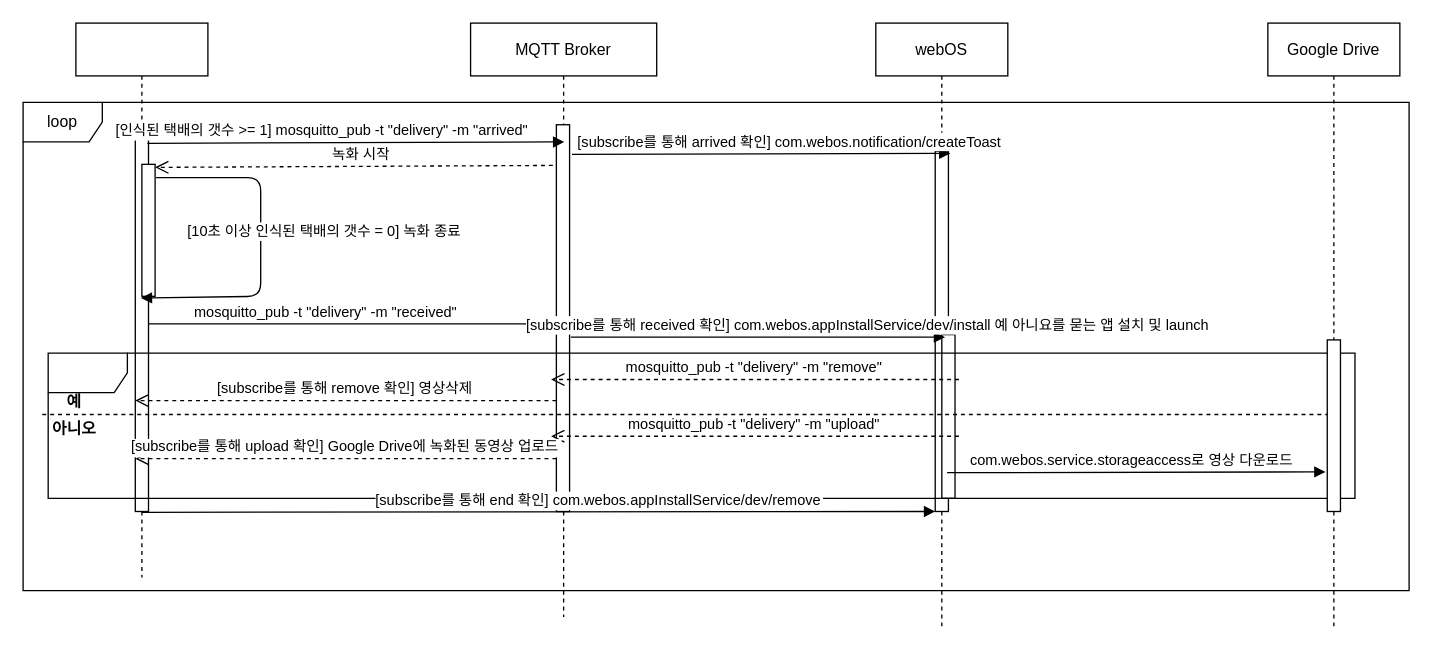
Some shapes in this 1432 by 653 pixel diagram are drawn without their labels. The shapes that lost their labels are listed below. From the top down, each one's box as (x1, y1, x2, y2) in pixels, then its label:
(75, 22, 208, 578): Raspbian
(47, 352, 1355, 498): alt
